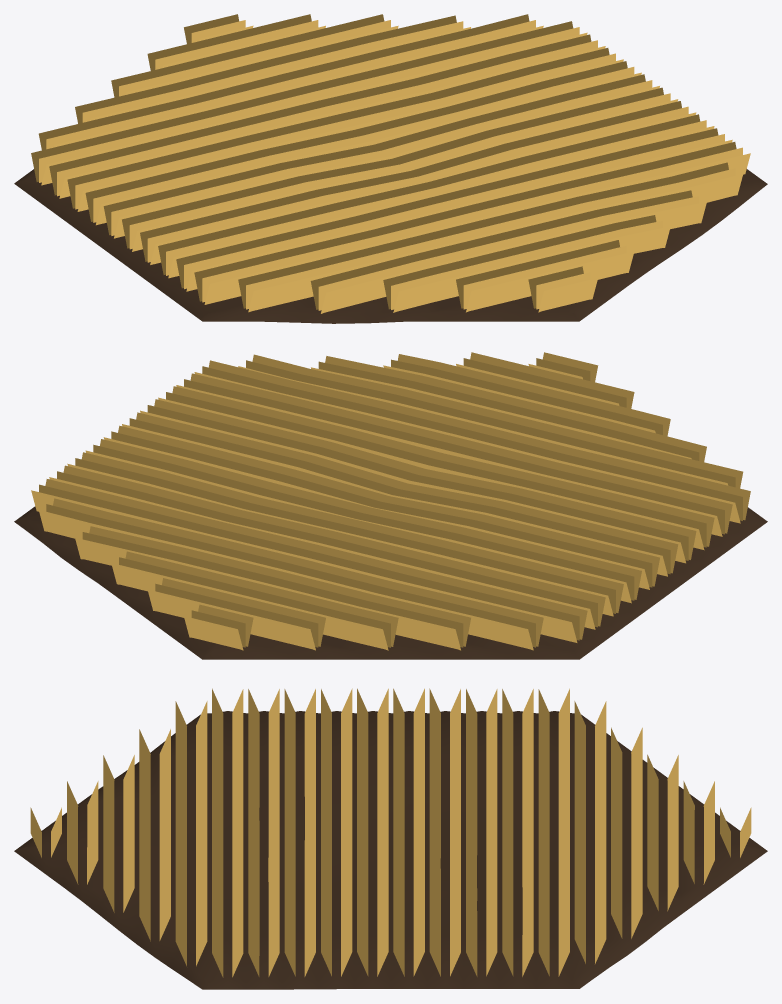
The model's file is wheat_field.glb.
3 views of the same model, one above another, from view 1: azimuth 30°, elevation 25°; view 2: azimuth 150°, elevation 25°; view 3: azimuth 270°, elevation 25° (orthographic).
Visible parts, largest first — view 1: wheat_field_lod0; view 2: wheat_field_lod0; view 3: wheat_field_lod0.
Part boxes in pixels (bbox=[...]): wheat_field_lod0: bbox=[14, 14, 767, 323]; wheat_field_lod0: bbox=[14, 352, 767, 659]; wheat_field_lod0: bbox=[14, 688, 767, 989].
Size of what is drawn, in the model's own units: 21.6 by 1.3 by 24.94.
